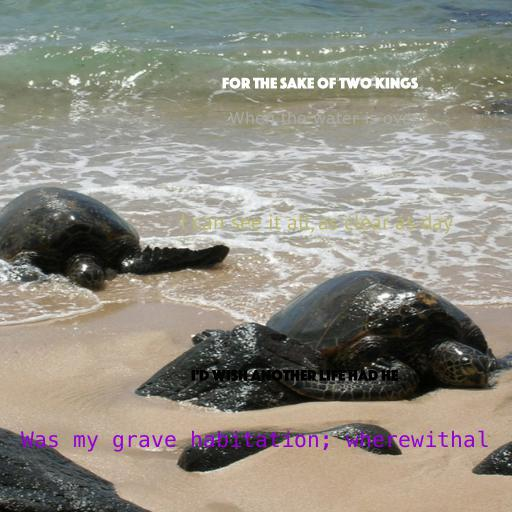Menlo: (21, 430, 489, 452)
PT Sans: (179, 214, 453, 234)
Phosphate: (190, 369, 398, 381), (222, 77, 418, 89)
Verdana: (229, 111, 419, 125)
